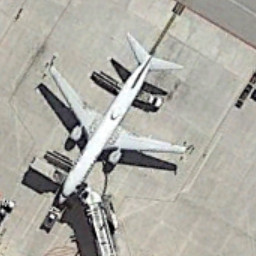Airplane: (43, 22, 198, 212)
